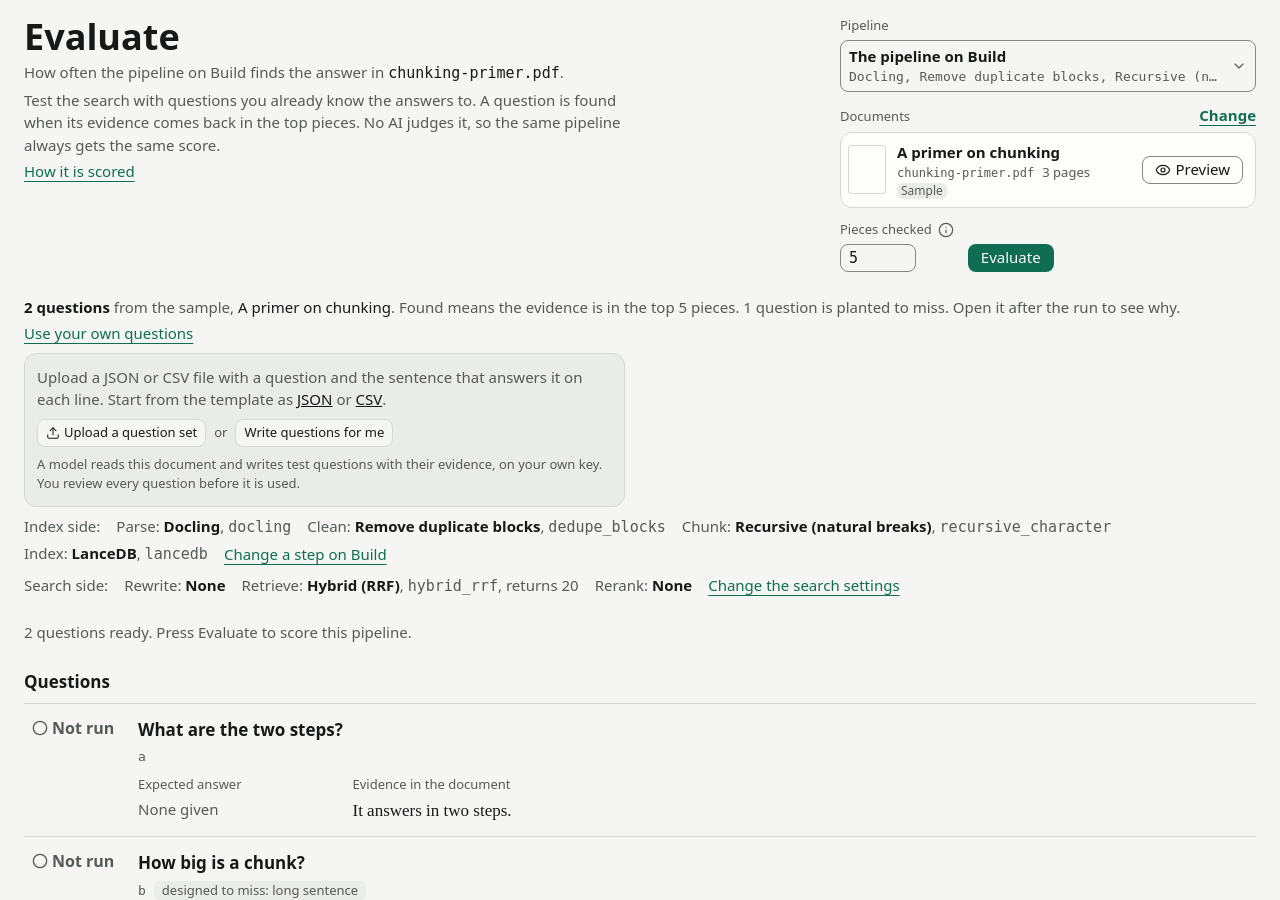
Test case: questions written for you › offers Write questions for me inside Use your own questions, and it opens the sheet
Expected: the element with test id "own-questions" shows "A model reads this document and writes test questions with their evidence, on your own key.", [37,455,602,492]
Click the button "Write questions for me" at (314, 433), box [236,419,393,447]
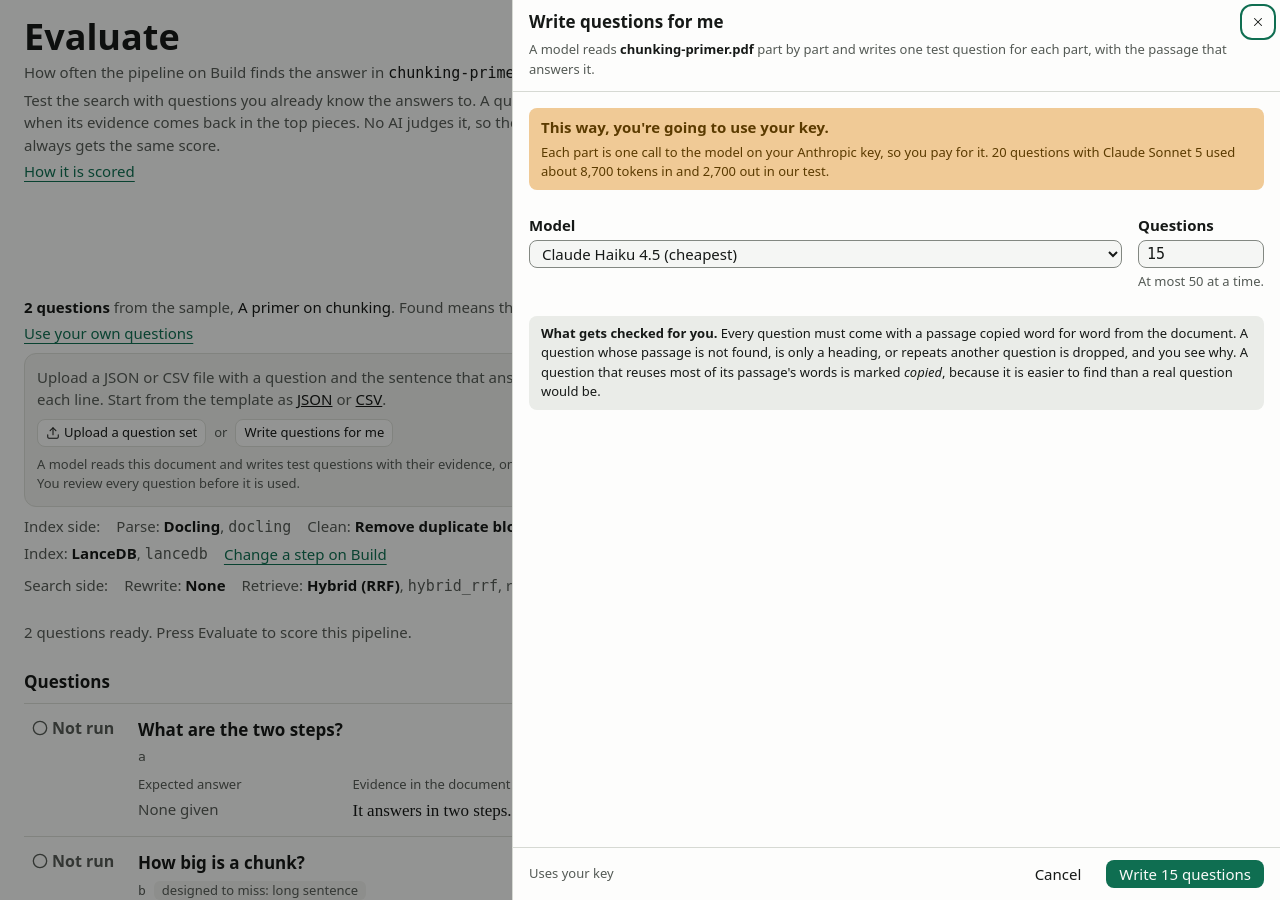
Expected: the heading "Write questions for me" is shown, [529,8,724,36]
